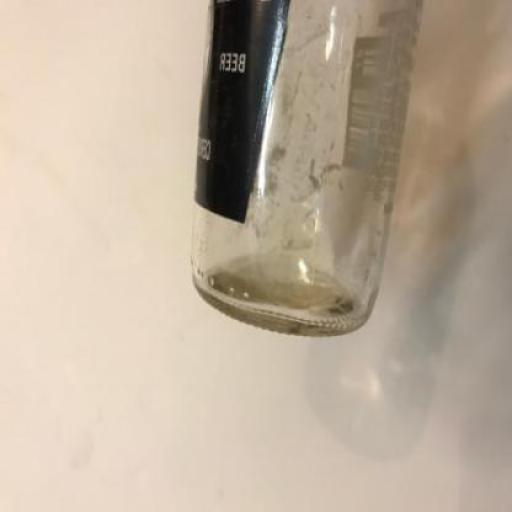glass: (192, 2, 422, 338)
